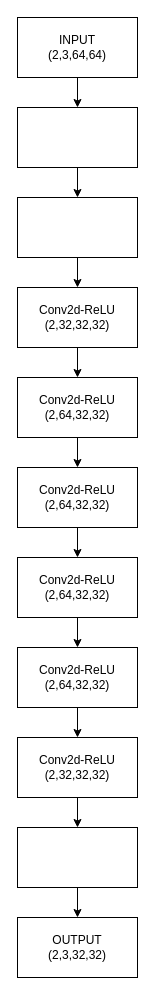
Some shapes in this 155 by 995 pixel diagram are drawn without their labels. The shapes that lost their labels are listed below. From the top down, each one's centre as x and y in pixels, then its label:
the point at 77,137: Conv2d-ReLU (2,16,64,64)
the point at 77,227: MaxPool (2,16,32,32)
the point at 77,857: Conv2d (2,3,32,32)
